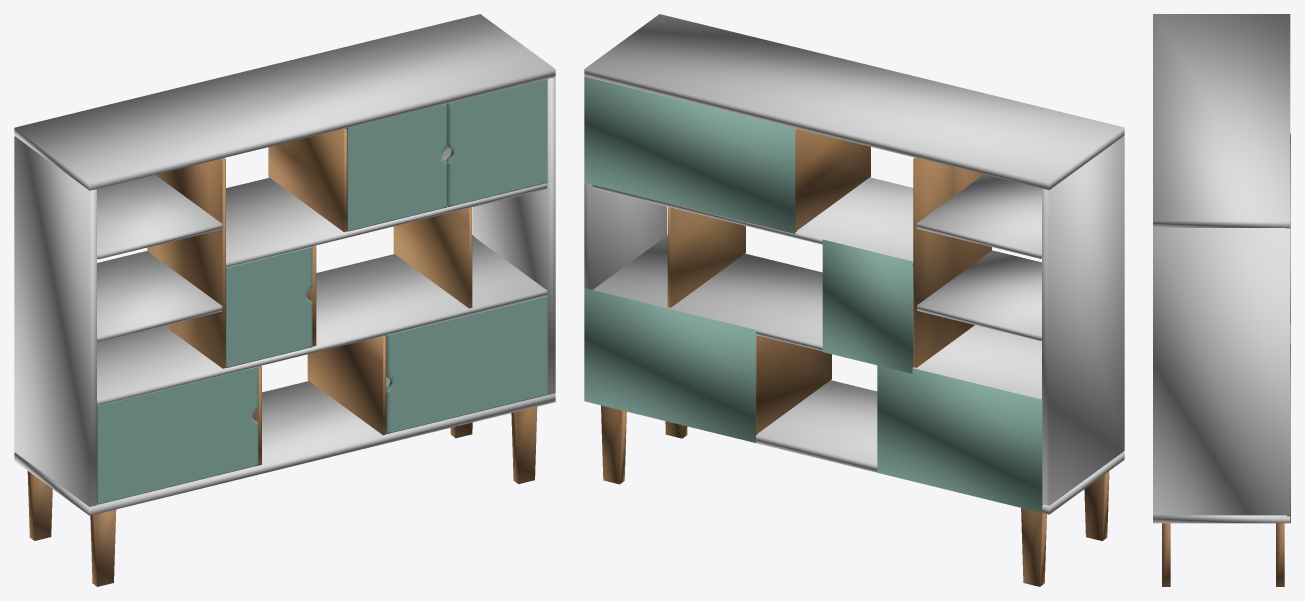
Rendered from Shelf3.fbx.
The picture shows the model from 3 angles, left to right: view 1: azimuth 30°, elevation 25°; view 2: azimuth 150°, elevation 25°; view 3: azimuth 270°, elevation 25°; orthographic projection. The views are drawn at different scales.
Visible parts, largest first — view 1: Shelf 96-29_27, Shelf 96-29_28, Shelf 96-29_23, Shelf 96-29, Shelf 96-29_5, Shelf 96-29_26, Shelf 96-29_3, Shelf 96-29_4, Shelf 96-29_2, Shelf 96-29_22, Shelf 96-29_20, Shelf 96-29_29 (+8 smaller); view 2: Shelf 96-29_27, Shelf 96-29_28, Shelf 96-29_32, Shelf 96-29_30, Shelf 96-29_33, Shelf 96-29_23, Shelf 96-29_31, Shelf 96-29_26, Shelf 96-29_20, Shelf 96-29_24, Shelf 96-29_22, Shelf 96-29_25 (+7 smaller); view 3: Shelf 96-29_29, Shelf 96-29_27, Shelf 96-29_26, Shelf 96-29_12, Shelf 96-29_13.
Part boxes in pixels (box(x1,y1,x2,y2)): Shelf 96-29_27: box(14, 14, 555, 190); Shelf 96-29_28: box(14, 136, 96, 506); Shelf 96-29_23: box(97, 236, 547, 405); Shelf 96-29: box(385, 296, 547, 433); Shelf 96-29_5: box(97, 366, 258, 504); Shelf 96-29_26: box(14, 377, 555, 515); Shelf 96-29_3: box(446, 79, 547, 206); Shelf 96-29_4: box(346, 103, 447, 231); Shelf 96-29_2: box(226, 246, 312, 367); Shelf 96-29_22: box(226, 147, 547, 267); Shelf 96-29_20: box(147, 158, 225, 368); Shelf 96-29_29: box(473, 77, 555, 394); Shelf 96-29_27: box(584, 14, 1124, 190); Shelf 96-29_28: box(1042, 136, 1124, 505); Shelf 96-29_32: box(584, 76, 796, 233); Shelf 96-29_30: box(584, 288, 757, 442); Shelf 96-29_33: box(877, 365, 1042, 512); Shelf 96-29_23: box(593, 235, 1041, 399); Shelf 96-29_31: box(822, 239, 913, 373); Shelf 96-29_26: box(756, 380, 1124, 514); Shelf 96-29_20: box(913, 157, 991, 367); Shelf 96-29_24: box(917, 250, 1041, 340); Shelf 96-29_22: box(592, 177, 913, 266); Shelf 96-29_25: box(917, 174, 1042, 258); Shelf 96-29_29: box(1153, 228, 1290, 515); Shelf 96-29_27: box(1153, 14, 1290, 227); Shelf 96-29_26: box(1153, 515, 1290, 523); Shelf 96-29_12: box(1276, 523, 1284, 586); Shelf 96-29_13: box(1162, 523, 1170, 586).
Bounding box in the file's own units: 119 × 99.89 × 33.41.
